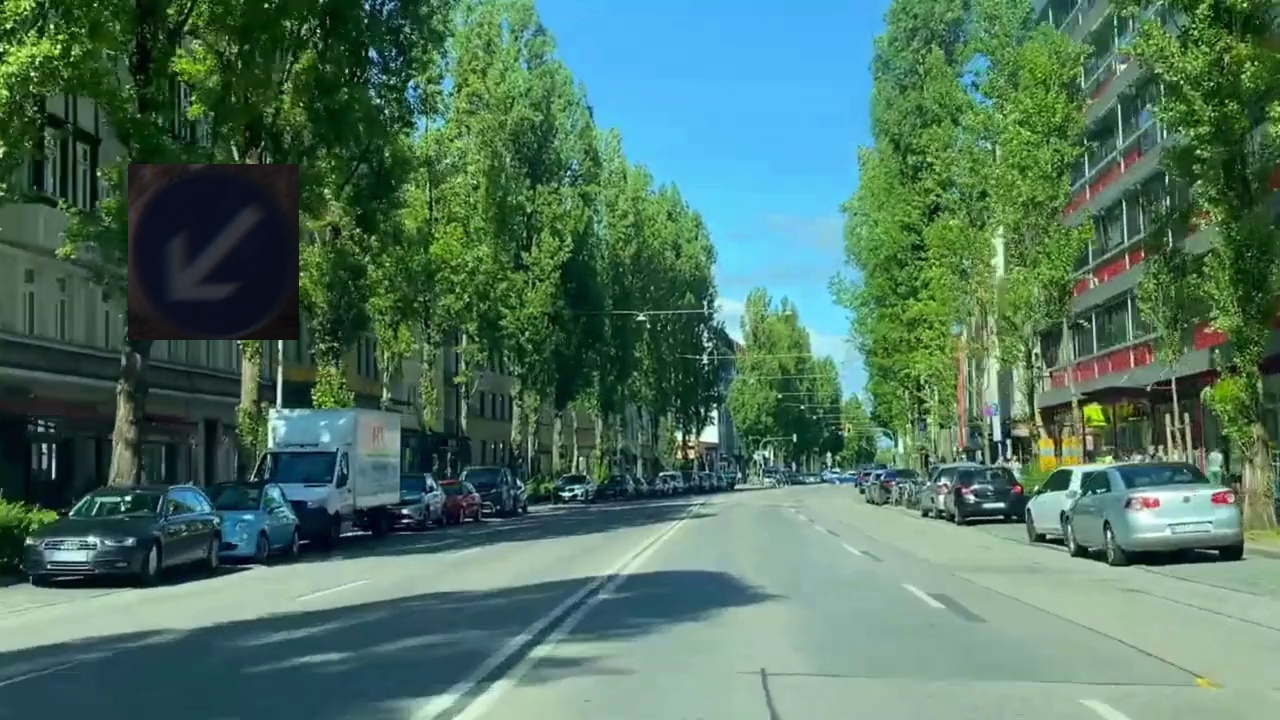Keep left: (128, 164, 299, 340)
